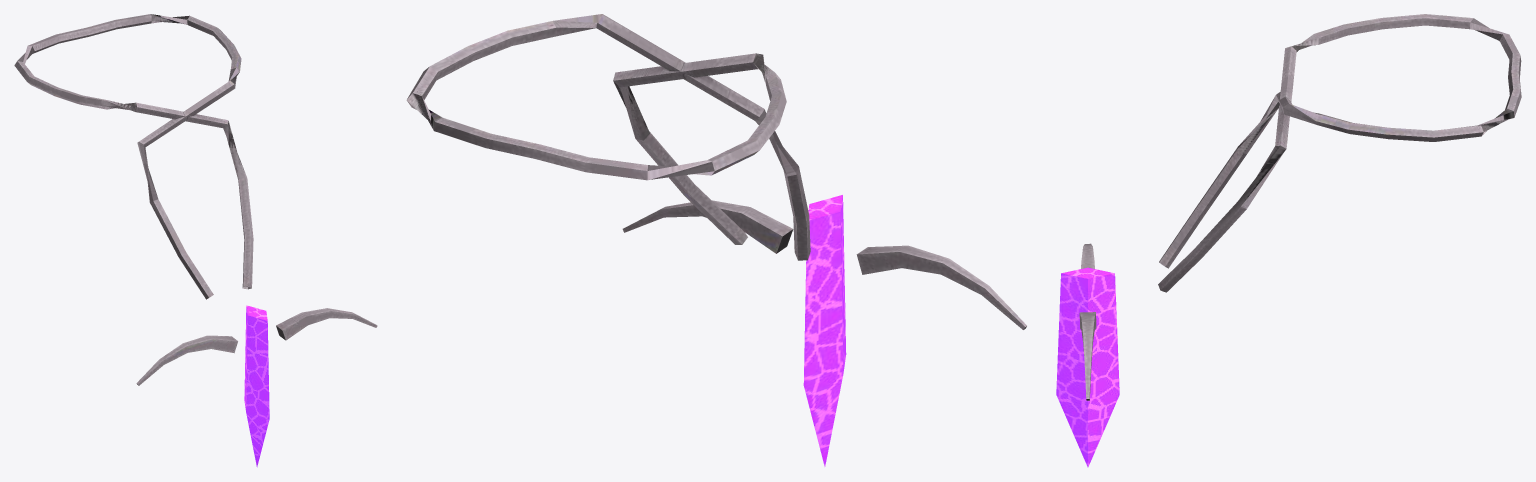
The model's file is Amuleto_da_Sombra_nivel50.glb.
3 renders of one model, left to right at view 1: azimuth 30°, elevation 25°; view 2: azimuth 150°, elevation 25°; view 3: azimuth 270°, elevation 25°, orthographic. The views are drawn at different scales.
Visible parts, largest first — view 1: amuleto_da_sombra_nivel50; view 2: amuleto_da_sombra_nivel50; view 3: amuleto_da_sombra_nivel50.
Part boxes in pixels (x1=…): amuleto_da_sombra_nivel50: x1=14, y1=14, x2=377, y2=467; amuleto_da_sombra_nivel50: x1=406, y1=14, x2=1026, y2=466; amuleto_da_sombra_nivel50: x1=1056, y1=14, x2=1521, y2=467.
Bounding box in the file's own units: 0.1931 × 0.243 × 0.2579.
Materials: 1 (1 with a texture image).
